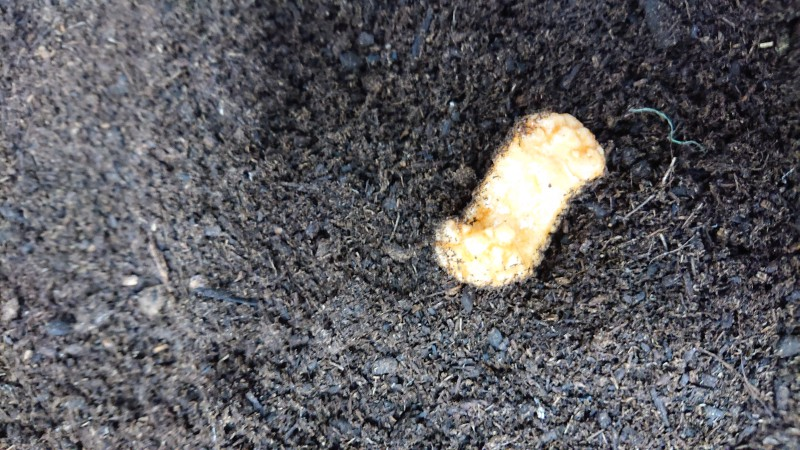eggs: (433, 102, 612, 293)
